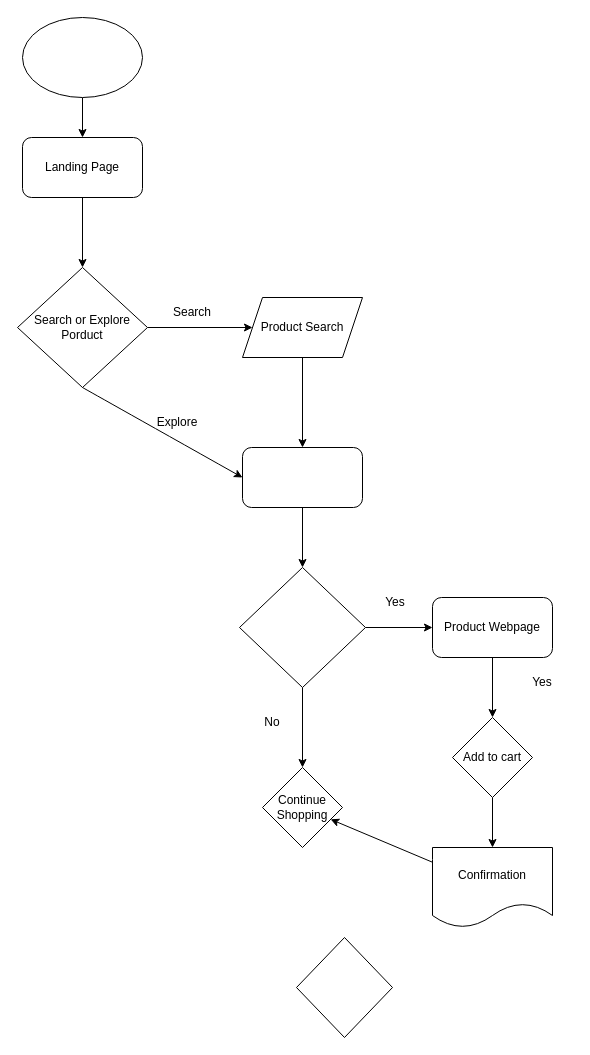
The diagram is 590 pixels wide and 1055 high, and some of its shapes have lost their labels. The box of each missing label's shape, as (x1, y1, x2, y2) in pixels:
Look into Products: (242, 446, 362, 508)
Start: (22, 16, 142, 98)
View Specific Product: (238, 566, 366, 688)
